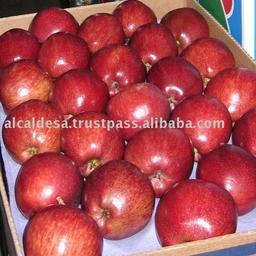apple: (86, 164, 158, 241), (158, 183, 236, 251), (122, 127, 194, 197), (14, 153, 82, 218), (58, 111, 122, 177), (195, 144, 256, 212), (22, 205, 102, 255), (2, 101, 64, 165), (168, 93, 232, 154), (107, 81, 170, 133), (46, 68, 109, 117), (202, 68, 256, 124), (148, 56, 203, 108), (91, 43, 147, 90), (1, 62, 52, 112), (179, 37, 235, 82), (40, 33, 91, 76), (160, 8, 210, 50), (128, 24, 178, 65), (78, 12, 125, 52), (30, 6, 78, 43), (112, 1, 156, 40), (1, 28, 39, 68)
